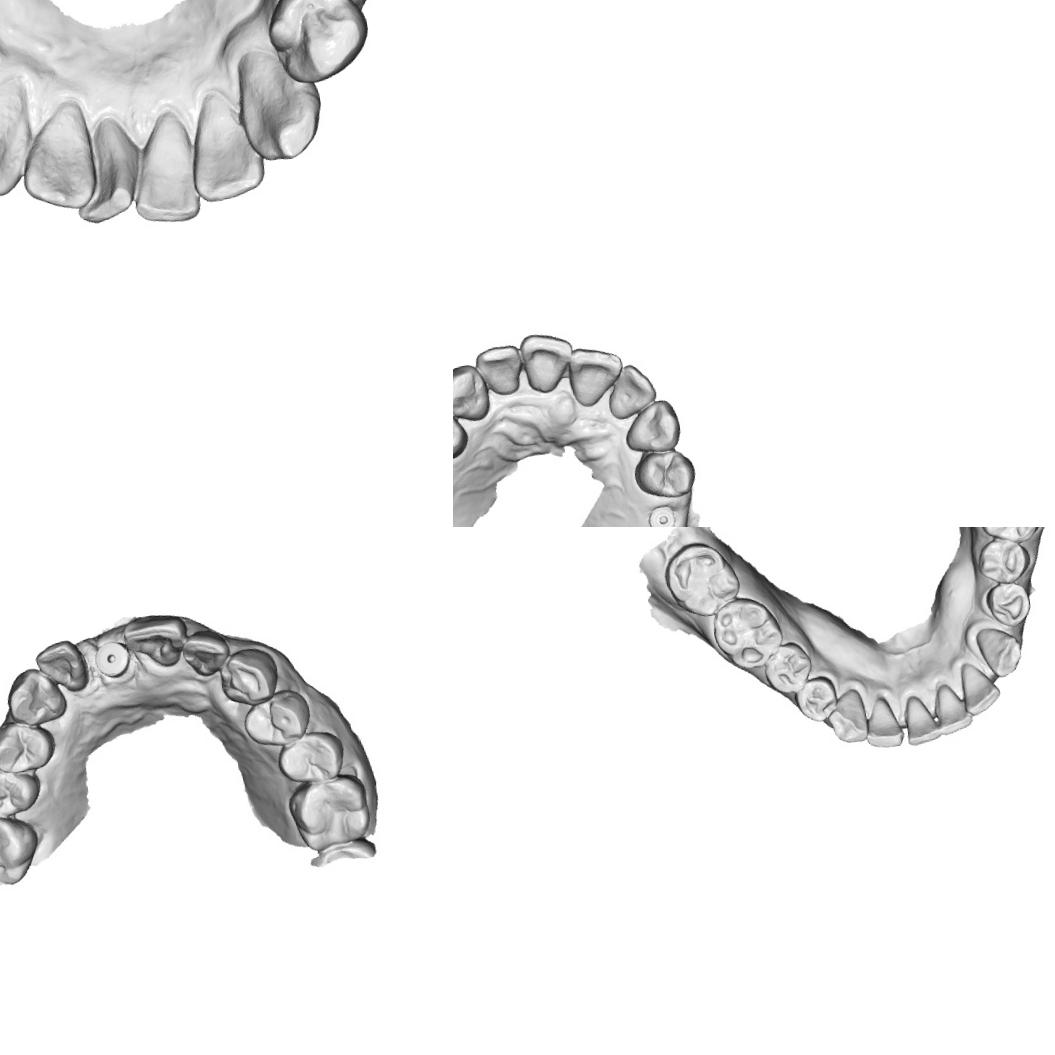canine: (230, 45, 327, 167), (0, 76, 39, 203), (216, 643, 284, 710), (1, 663, 70, 729), (618, 396, 684, 458), (972, 622, 1028, 682), (823, 685, 870, 748), (453, 361, 492, 427)
implant: (90, 635, 133, 681), (645, 502, 680, 527)
incisor: (116, 110, 205, 229), (180, 89, 268, 204), (14, 102, 102, 214), (66, 115, 148, 228), (120, 610, 193, 674), (563, 341, 630, 410), (516, 328, 579, 398), (601, 358, 661, 422), (31, 637, 92, 698), (178, 624, 234, 681), (473, 342, 527, 401), (929, 678, 976, 738), (957, 657, 1003, 718), (861, 692, 905, 752), (897, 691, 943, 748)
molar: (284, 772, 374, 856), (654, 533, 739, 614), (708, 592, 788, 676), (0, 803, 44, 893), (971, 527, 1048, 547)
premolar: (260, 0, 375, 88), (239, 686, 315, 752), (274, 727, 348, 788), (630, 446, 699, 504), (0, 715, 60, 776), (759, 638, 816, 699), (973, 535, 1033, 588), (982, 579, 1036, 632), (792, 672, 842, 726), (0, 762, 44, 821), (453, 397, 471, 466)
